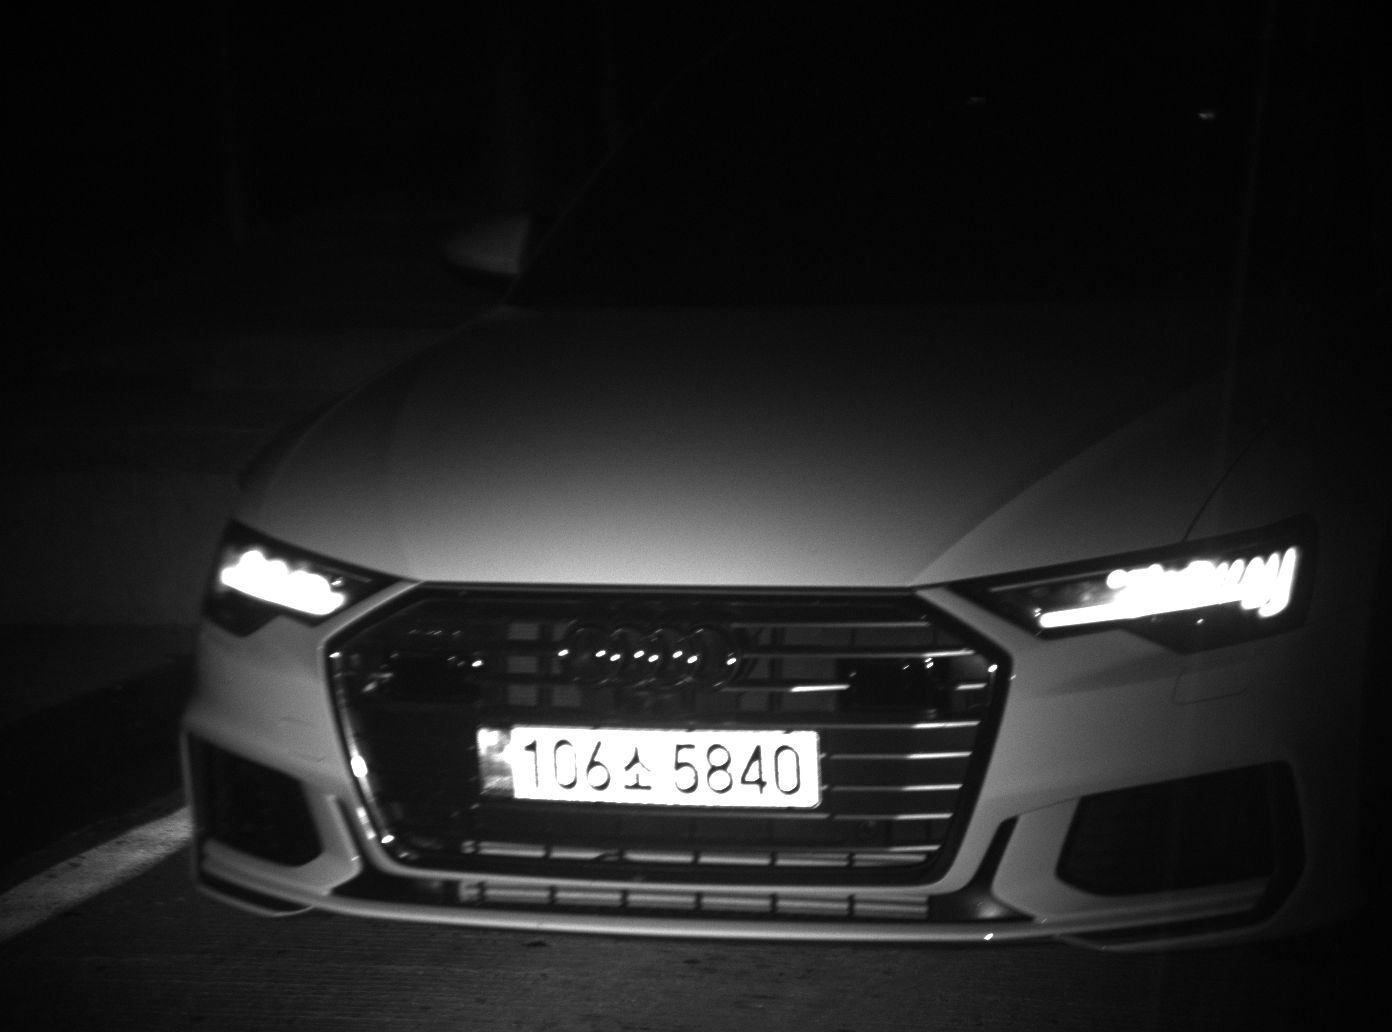car: (181, 9, 1390, 955)
plate: (474, 723, 823, 809)
